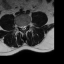CCS_normal: (22, 24, 24, 32)
LFS_normal: (26, 22, 28, 28)
LLS_normal: (24, 23, 26, 31)
RFS_normal: (19, 24, 21, 29)
RLS_normal: (21, 24, 22, 31)
